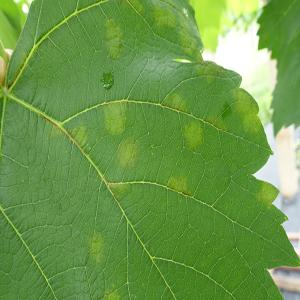Folha: (0, 0, 298, 298)
Fungo: (228, 78, 265, 136), (188, 54, 234, 85), (101, 95, 131, 134), (165, 164, 195, 202), (84, 223, 107, 267), (104, 17, 125, 61), (115, 135, 139, 171), (148, 0, 177, 29), (67, 117, 93, 149), (255, 174, 278, 209), (182, 118, 204, 150), (175, 15, 193, 51), (208, 104, 227, 135)
